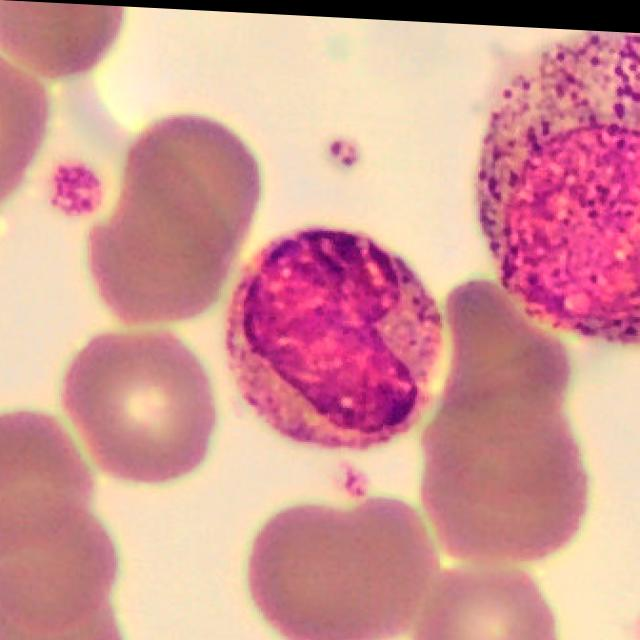Metamielocito: (227, 225, 440, 443)
